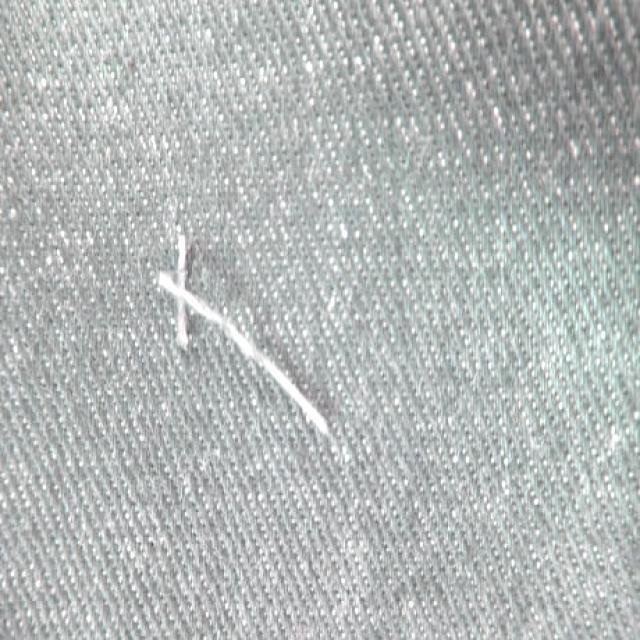stains: (64, 152, 466, 588)
